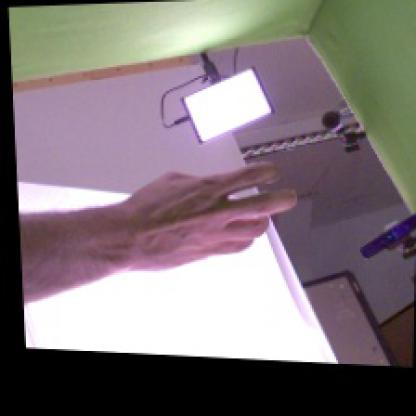Hand: (121, 163, 298, 272)
